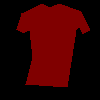abbigliamento_uomo: (16, 3, 90, 87)
